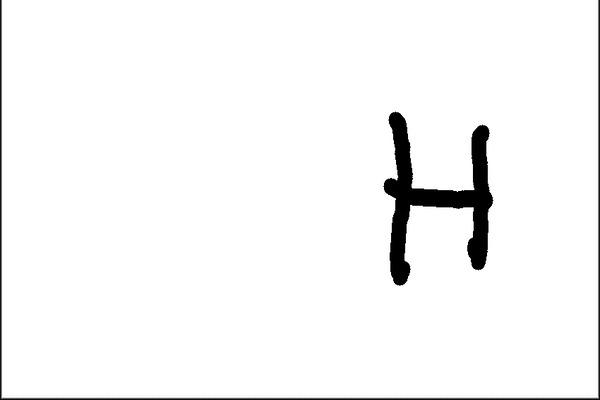H: (377, 106, 500, 287)
